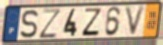4: (62, 7, 78, 38)
6: (104, 6, 122, 38)
S: (19, 9, 40, 40)
V: (124, 4, 148, 38)
Z: (38, 7, 63, 40), (80, 7, 103, 37)
